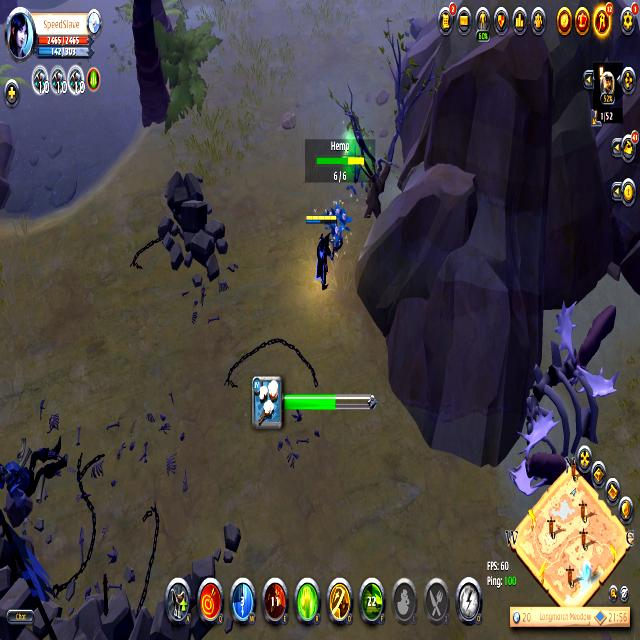hide: (326, 196, 352, 253)
ore: (556, 298, 621, 391), (506, 410, 563, 496)
red: (305, 208, 339, 292)
